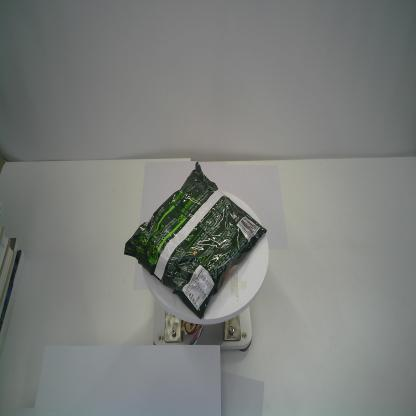Instant Noodles: (121, 157, 267, 323)
